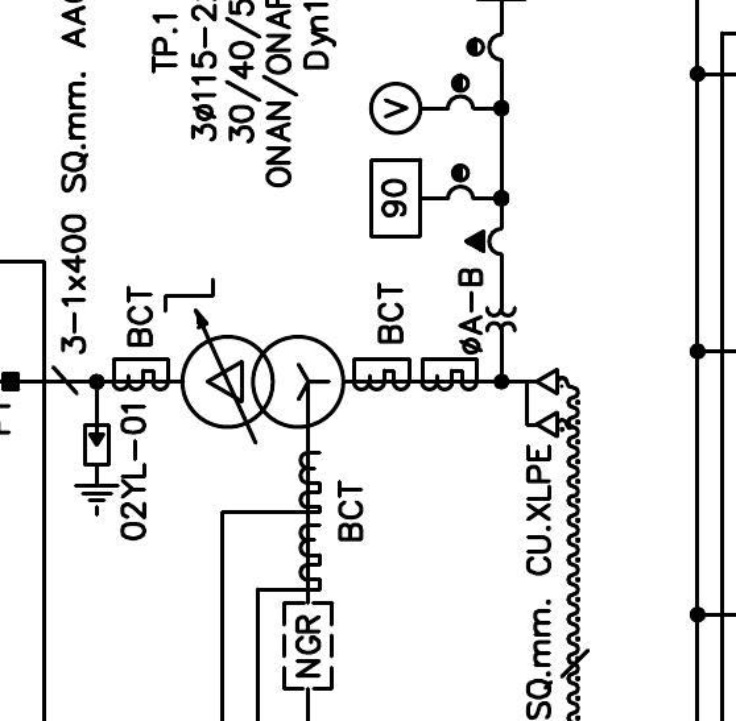11522_tx_dyn1: (180, 334, 347, 430)
115_la: (72, 422, 121, 518)
terminator_double: (524, 367, 560, 438)
v_m: (368, 80, 423, 137)
